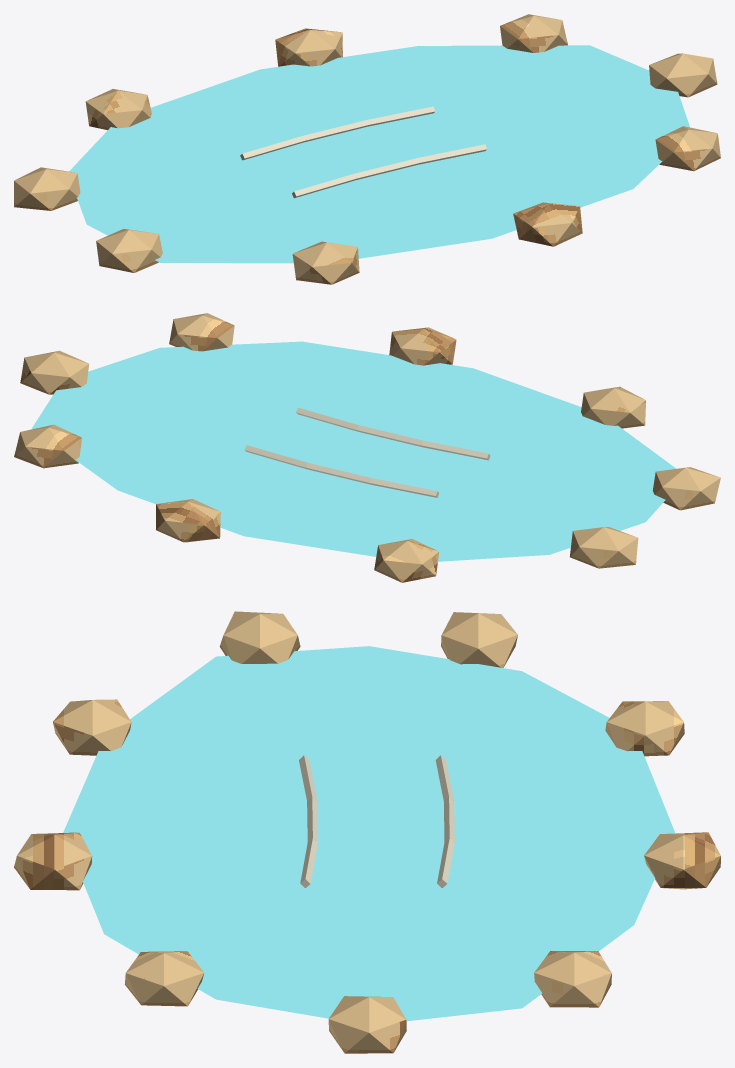
File: enfeite_lago.glb
3 renders of one model, top to bottom at view 1: azimuth 30°, elevation 25°; view 2: azimuth 150°, elevation 25°; view 3: azimuth 270°, elevation 25°, orthographic. The views are drawn at different scales.
Parts seen in each view (by area): view 1: deserto_enfeite_lago; view 2: deserto_enfeite_lago; view 3: deserto_enfeite_lago.
Part boxes in pixels (bbox=[...]): deserto_enfeite_lago: bbox=[14, 14, 720, 284]; deserto_enfeite_lago: bbox=[14, 313, 720, 582]; deserto_enfeite_lago: bbox=[14, 611, 720, 1053].
Bounding box in the file's own units: 1.54 × 0.0951 × 1.09.
3 materials, 1 textured.
